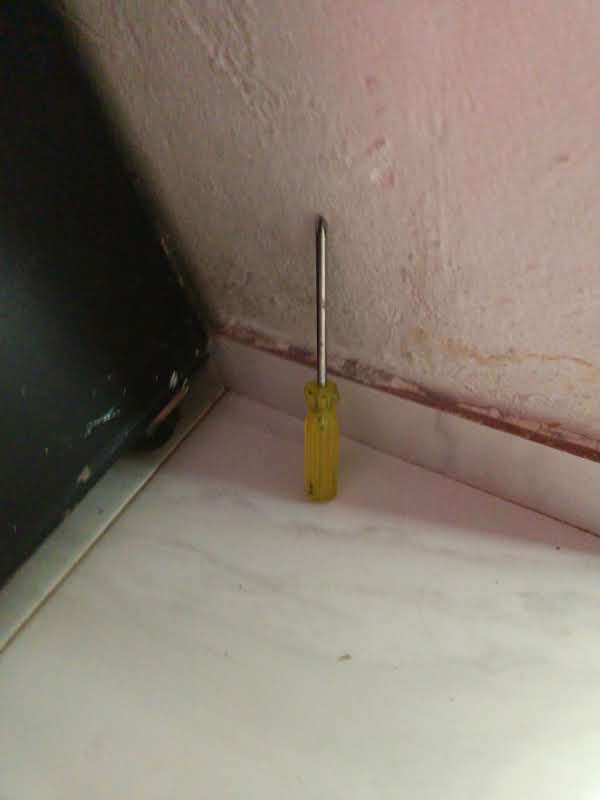Destornillador: (304, 215, 339, 501)
